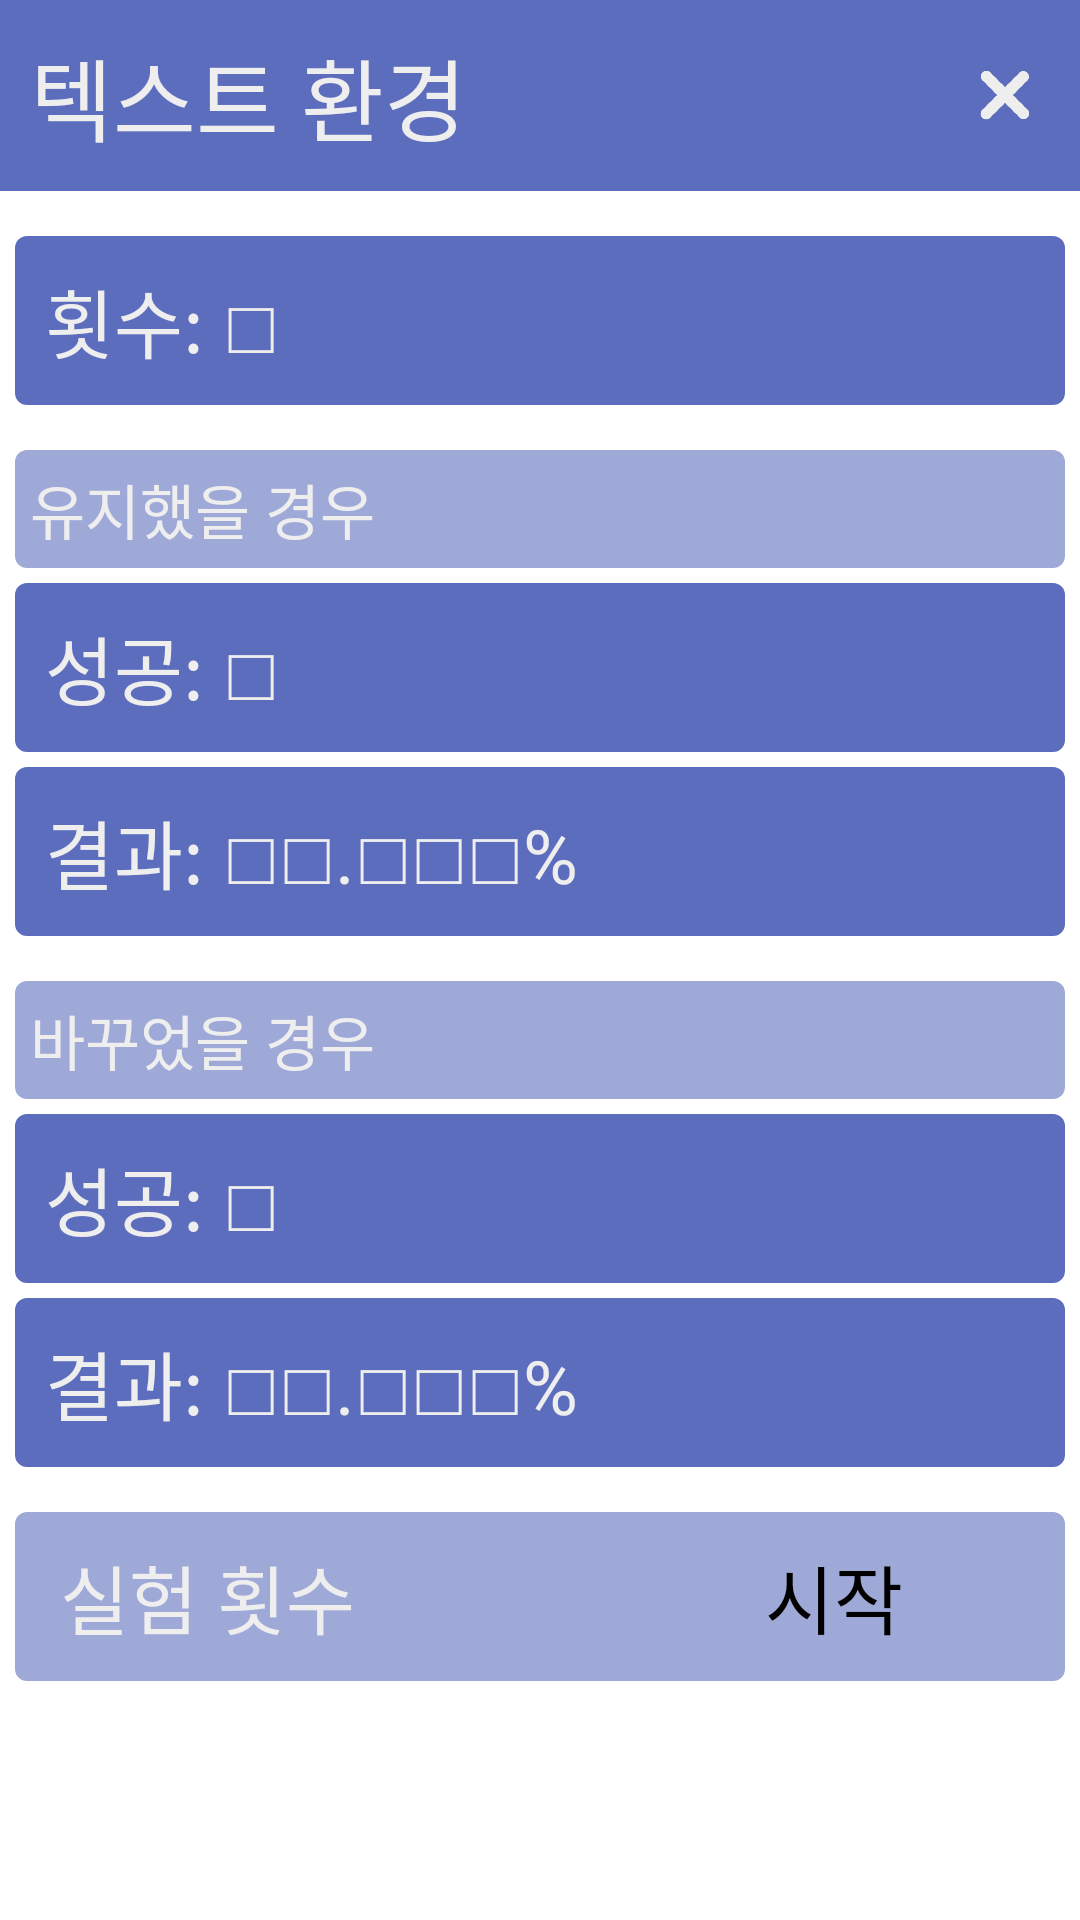

Icons on this 1080×1920 Android screen, each with the point to tap as (x,y):
exit: (1004,95)
